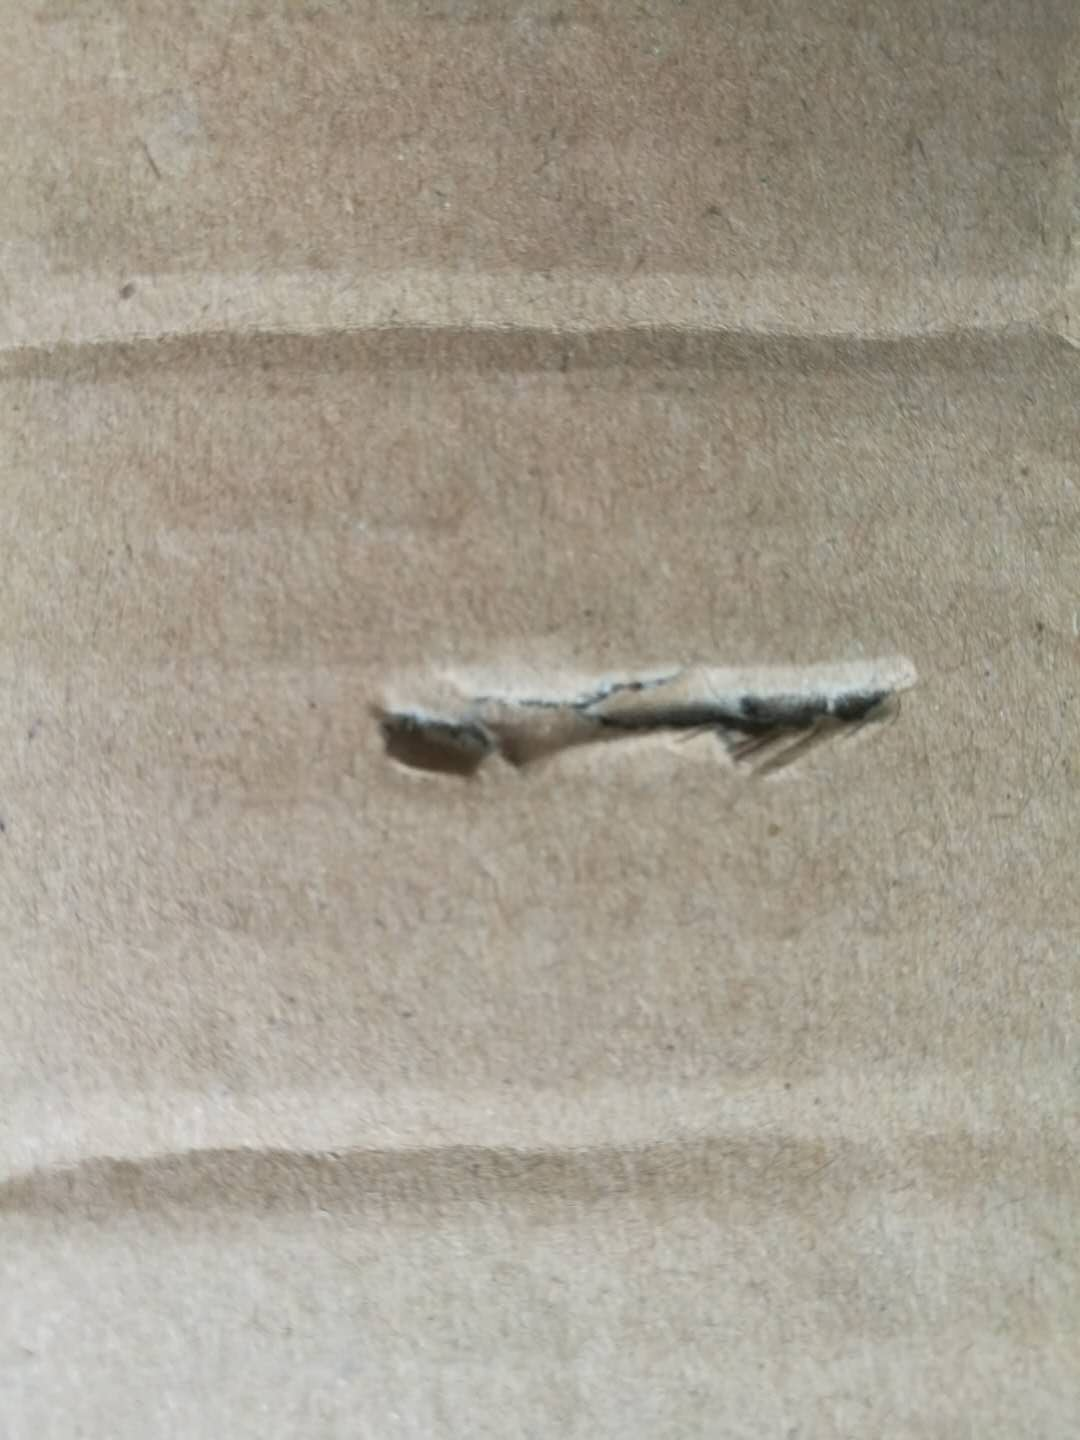defect: (1, 247, 1080, 450), (2, 1084, 1026, 1273), (289, 588, 995, 819)
